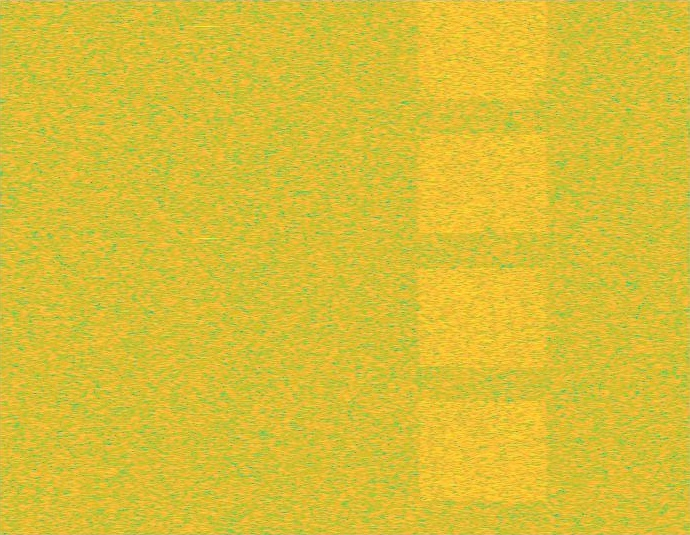5G: (414, 0, 552, 534)
Radar: (200, 0, 214, 534)
